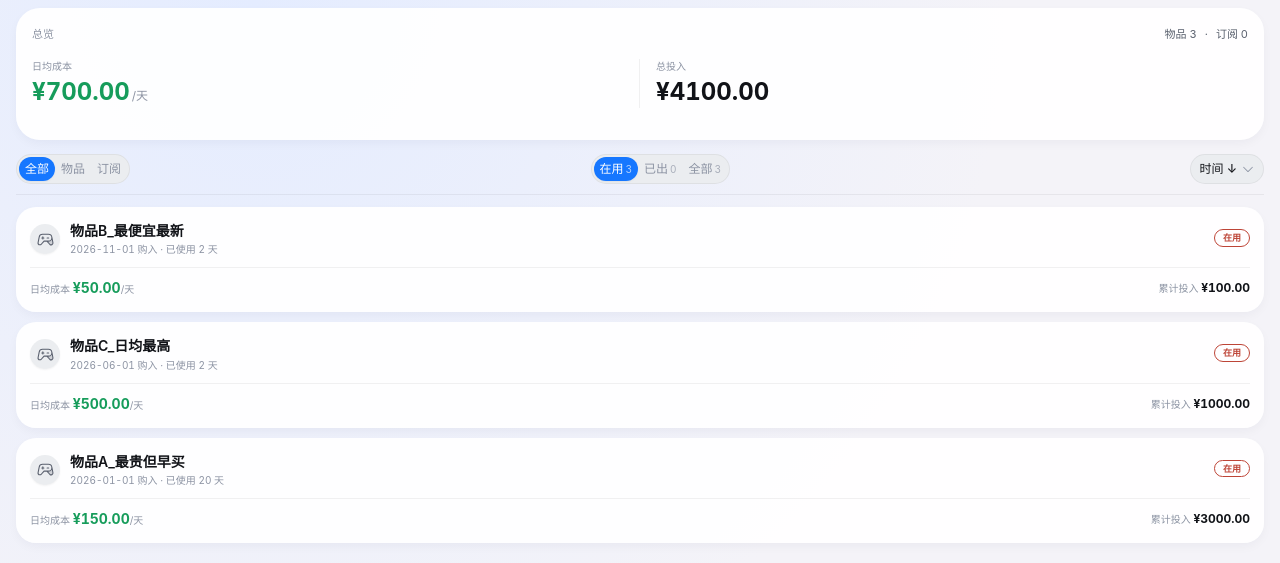
Test: OwnedItems Plugin Components › reorders items in ItemListSubPage when selecting time, cost, and daily cost sort options
Step 1. Click the dropdown named "排序方式" → (1227, 168), box [1190,154,1264,184]
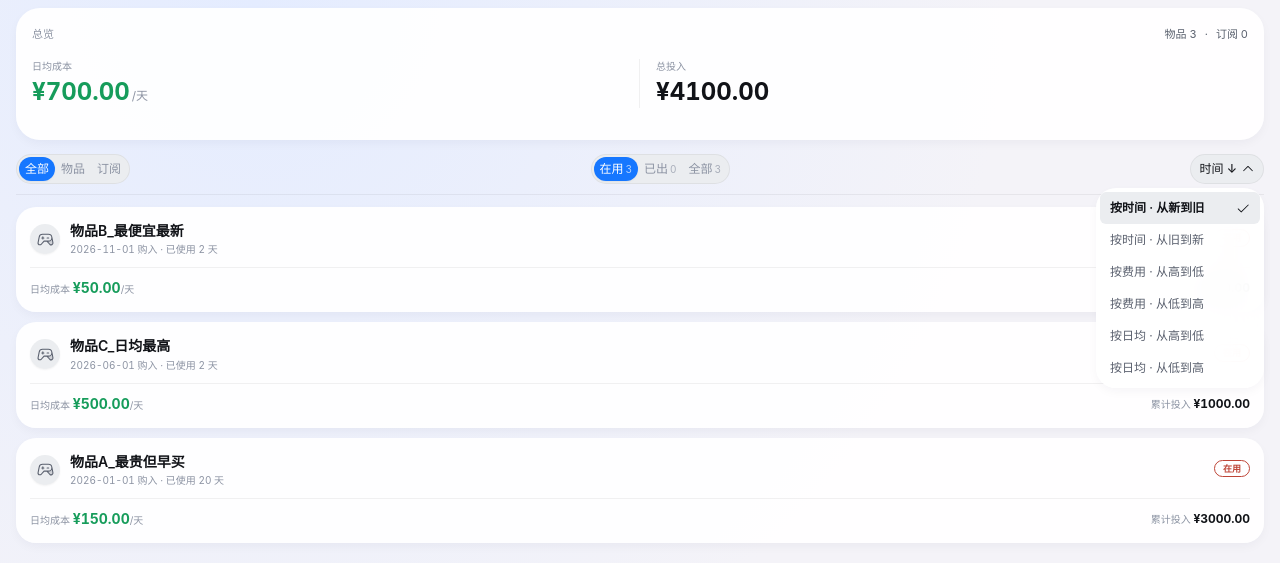
Step 2. Click the option "按费用 · 从高到低" → (1180, 272), box [1100,256,1260,288]
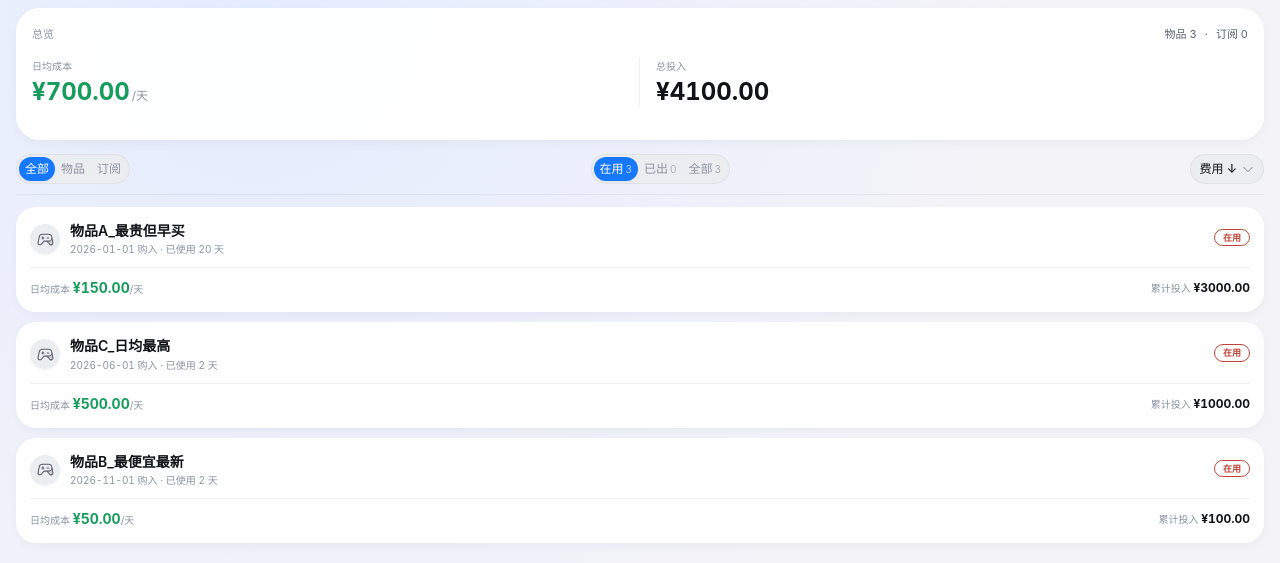
Result: the dropdown named "排序方式" reads "费用 ↓"
Step 3. Click the dropdown named "排序方式" → (1227, 168), box [1190,154,1264,184]
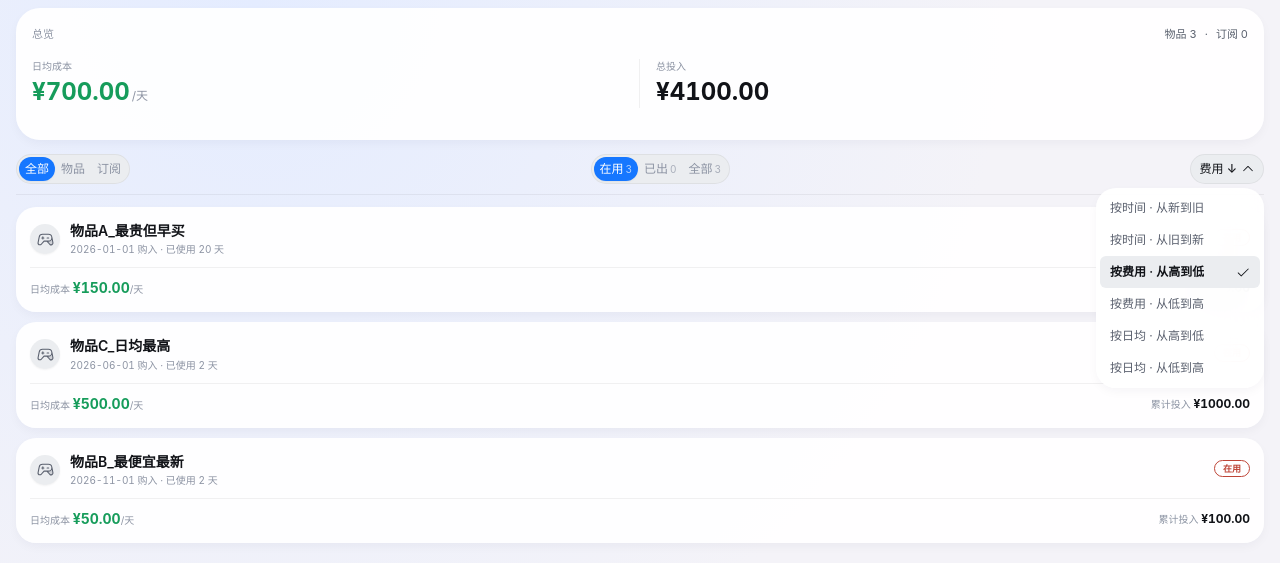
Step 4. Click the option "按日均 · 从高到低" → (1180, 336), box [1100,320,1260,352]
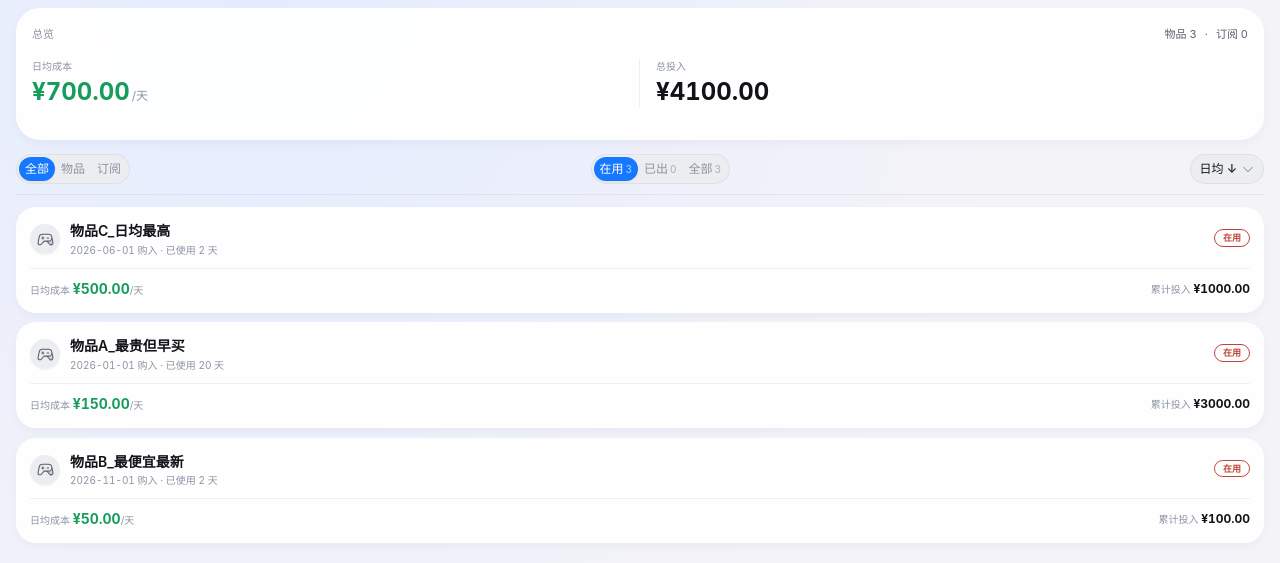
Result: the dropdown named "排序方式" reads "日均 ↓" at [1190,154,1264,184]
